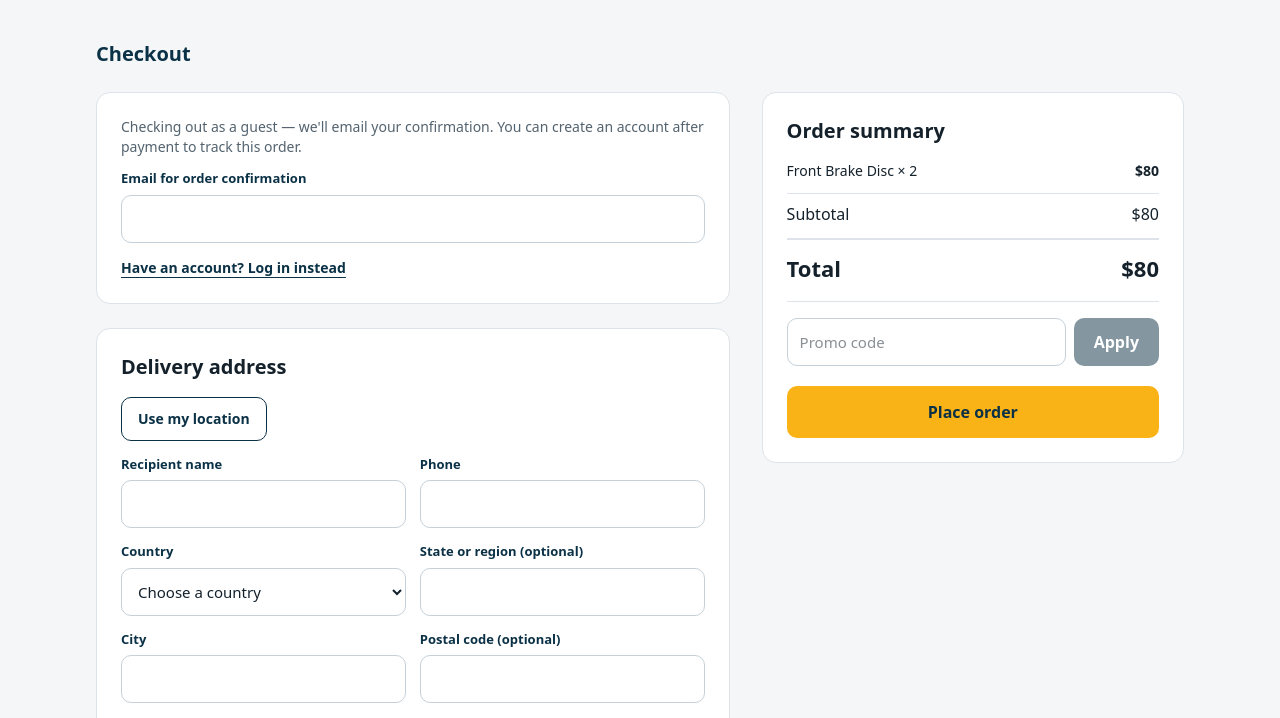
Test: checkout: a guest placing an order › CRITICAL: an email is required and must look like one, before anything else is sent
Click the button "Place order" at [973, 412], box [787,386,1159,438]
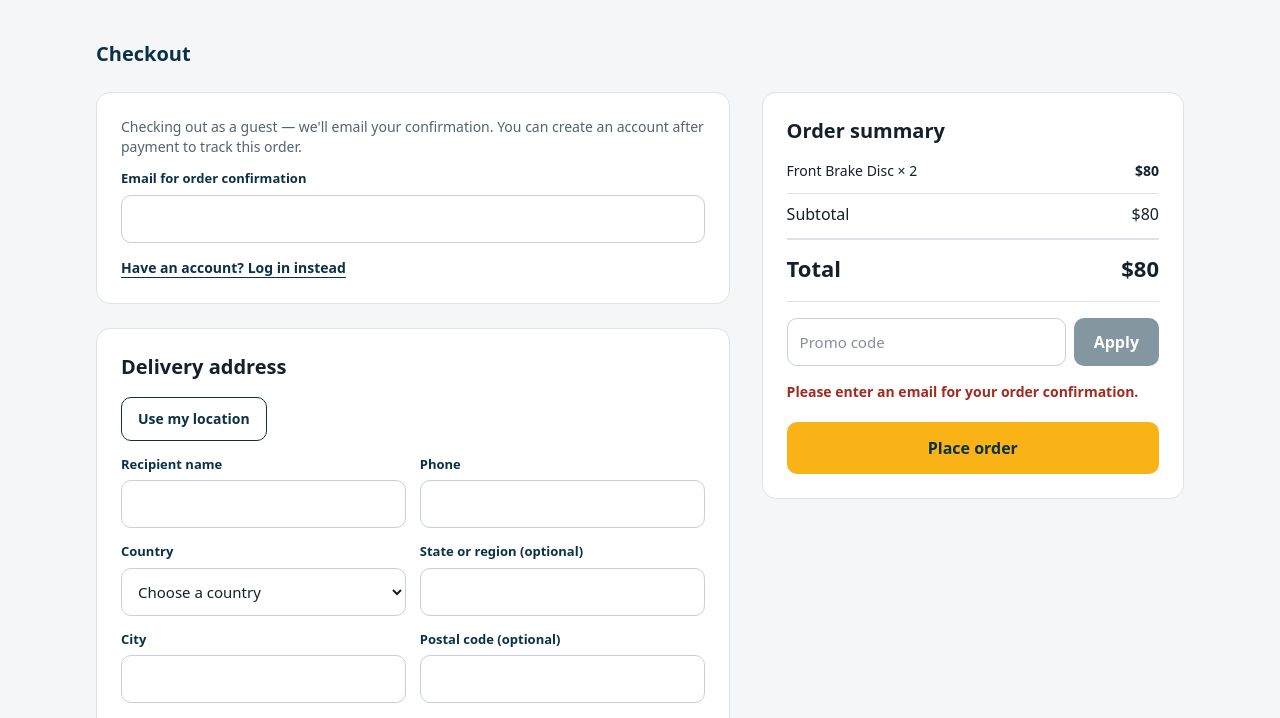
Check: the text "Please enter an email for your order confirmation." is shown, box [787,382,1159,402]
Type "not-an-email" into the field labelled "Email for order confirmation" at [413, 218], box [121,194,705,242]
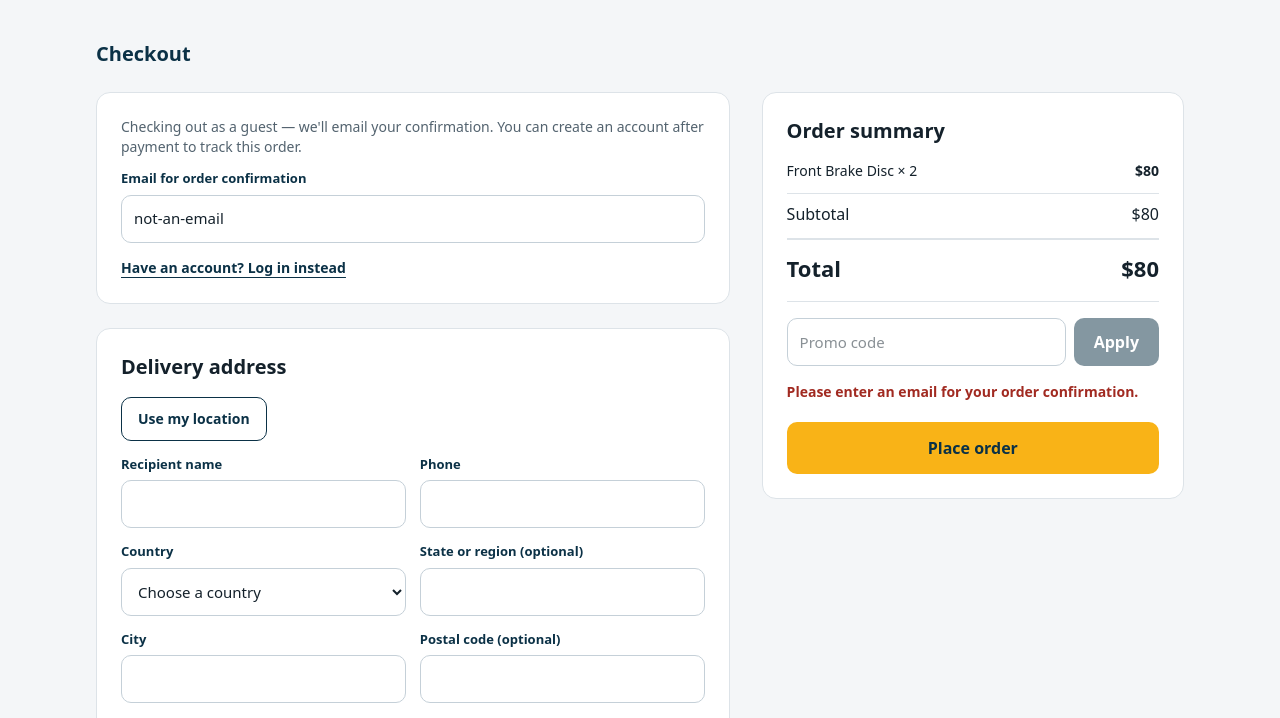
Click the button "Place order" at [973, 448], box [787,422,1159,474]
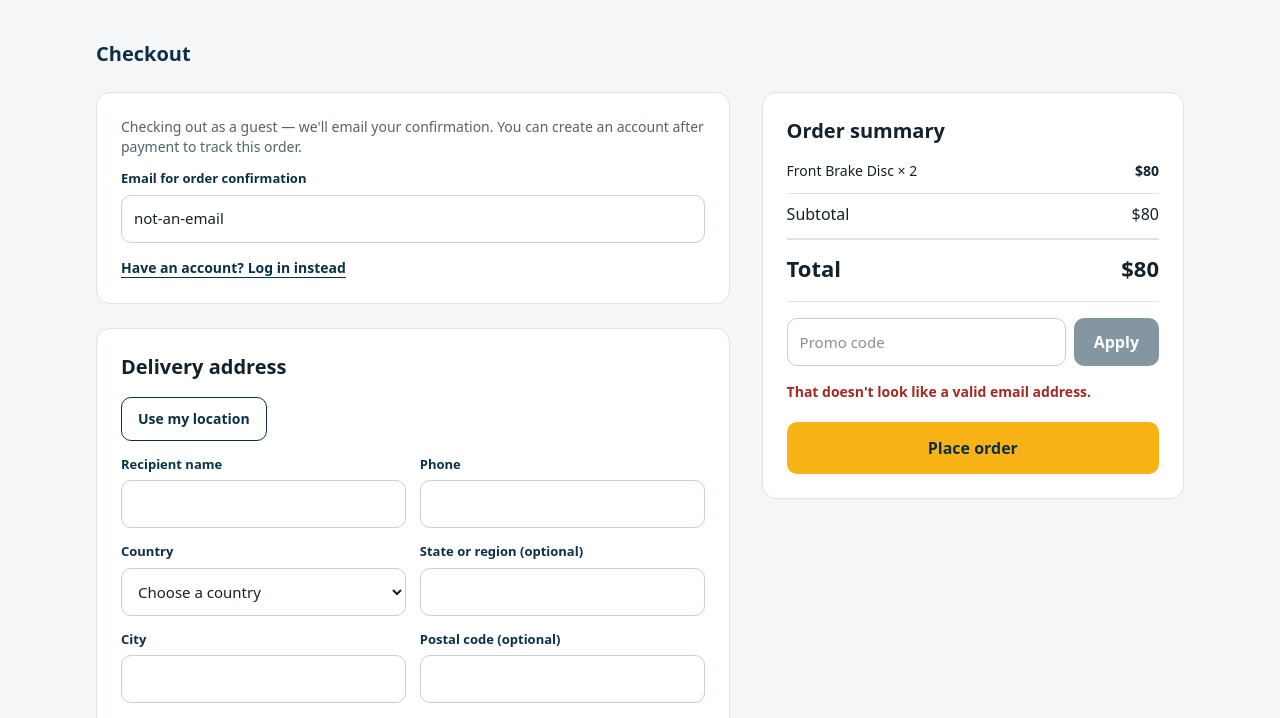
Check: the text "That doesn't look like a valid email address." is shown, box [787,382,1091,401]
